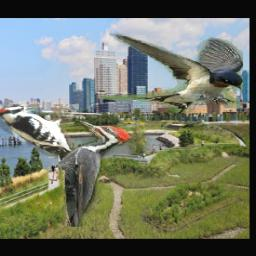Swallow: (100, 32, 244, 113)
Woodpecker: (59, 120, 132, 228), (0, 105, 80, 159)
